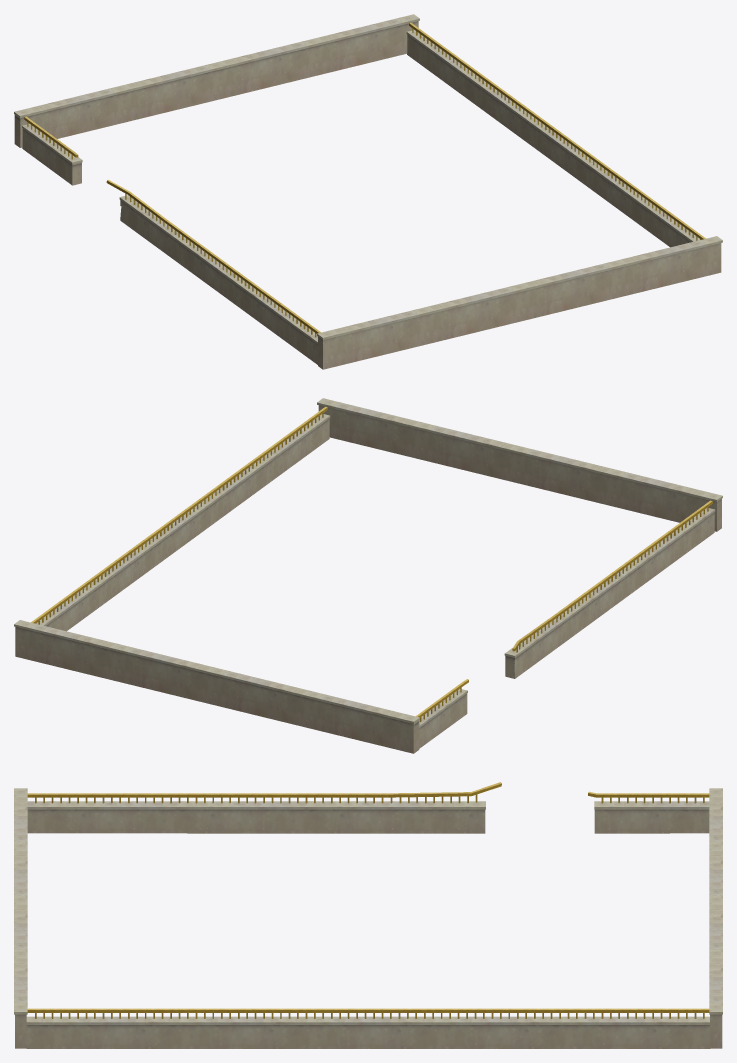
File: Chapter03_Buggy_Fence01.fbx
The picture shows the model from 3 angles, top to bottom: view 1: azimuth 30°, elevation 25°; view 2: azimuth 150°, elevation 25°; view 3: azimuth 270°, elevation 25°; orthographic projection. The views are drawn at different scales.
Parts seen in each view (by area): view 1: Chapter03_Buggy_Fence01; view 2: Chapter03_Buggy_Fence01; view 3: Chapter03_Buggy_Fence01.
Boxes of the visible parts, bbox=[...] form: Chapter03_Buggy_Fence01: bbox=[14, 14, 722, 369]; Chapter03_Buggy_Fence01: bbox=[14, 398, 722, 753]; Chapter03_Buggy_Fence01: bbox=[14, 782, 722, 1048].
Size of the model in its own units: 3683 by 322 by 4877.
Materials: 1 (1 with a texture image).
